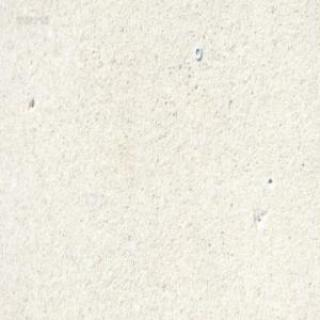Washertrack_idkeyframe: (193, 44, 201, 60)
